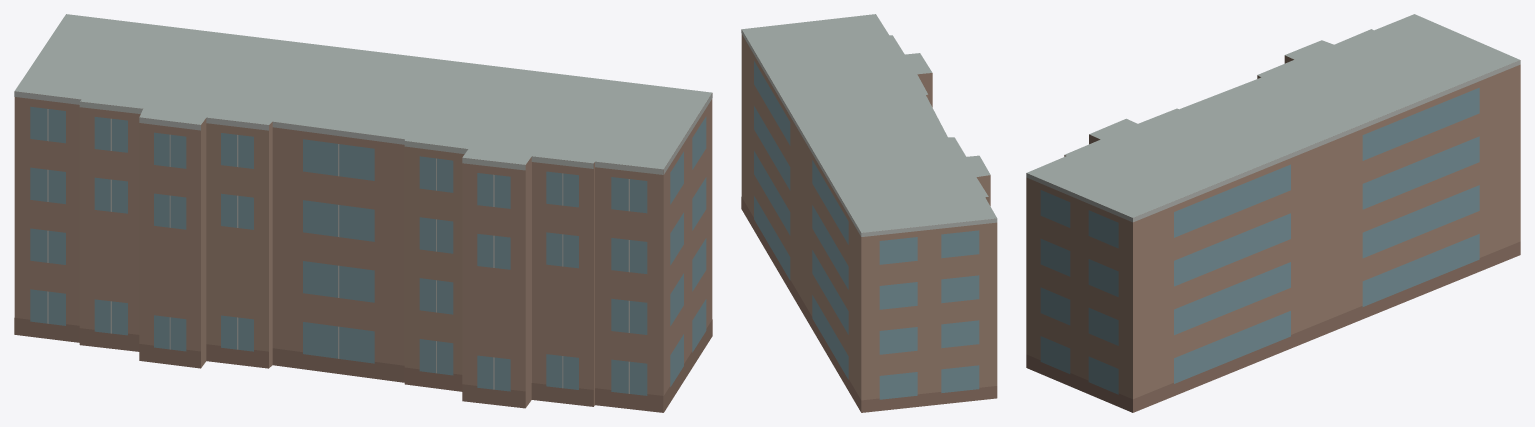
The model's file is survey-upis-32597814.glb.
3 renders of one model, left to right at view 1: azimuth 30°, elevation 25°; view 2: azimuth 150°, elevation 25°; view 3: azimuth 270°, elevation 25°, orthographic. The views are drawn at different scales.
Parts seen in each view (by area): view 1: survey-upis-32597814.tmp; view 2: survey-upis-32597814.tmp; view 3: survey-upis-32597814.tmp.
Part boxes in pixels (bbox=[...]): survey-upis-32597814.tmp: bbox=[14, 14, 712, 412]; survey-upis-32597814.tmp: bbox=[741, 14, 997, 412]; survey-upis-32597814.tmp: bbox=[1026, 14, 1520, 412].
Bounding box in the file's own units: 23.79 × 10.6 × 24.36.
